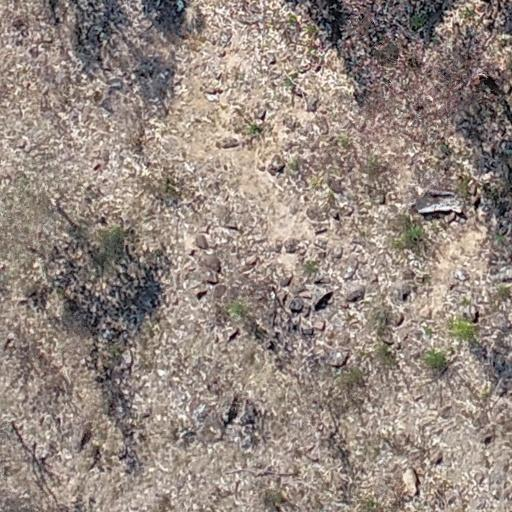stone: (201, 252, 221, 284), (309, 282, 327, 310), (235, 404, 256, 428), (202, 412, 222, 436), (346, 286, 372, 304), (301, 89, 315, 117), (219, 389, 234, 414), (406, 468, 420, 494), (396, 279, 414, 298), (342, 258, 359, 278), (311, 119, 332, 135), (18, 133, 31, 158), (499, 260, 512, 285), (237, 14, 260, 28), (218, 330, 238, 346), (204, 79, 220, 99), (329, 244, 346, 260), (107, 77, 124, 93), (269, 154, 284, 170), (414, 263, 430, 277), (218, 137, 240, 147), (393, 311, 405, 328), (457, 269, 470, 284), (422, 302, 433, 316), (431, 450, 442, 462), (300, 62, 313, 72), (193, 290, 205, 300), (313, 324, 324, 332)
